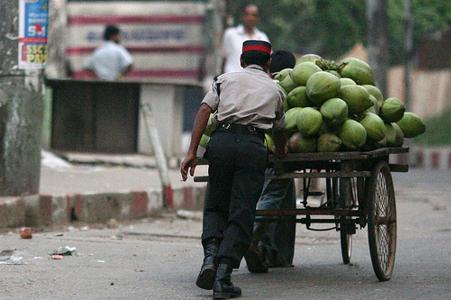person: (180, 41, 286, 300)
